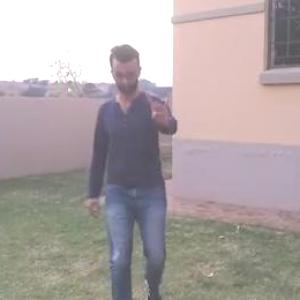takeoff-hand: (148, 83, 178, 133)
